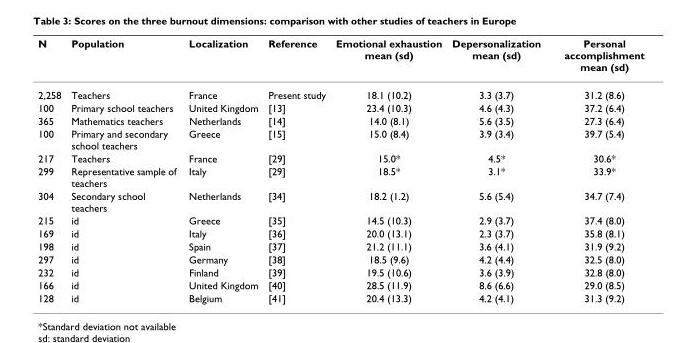table: (37, 36, 643, 303)
table column: (65, 36, 181, 303), (330, 36, 446, 303), (446, 36, 551, 303), (551, 36, 643, 303), (181, 36, 262, 303), (262, 36, 330, 303), (37, 36, 65, 303)
table column header: (37, 36, 643, 80)
table row: (37, 36, 643, 80), (37, 126, 643, 151), (37, 188, 643, 213), (37, 164, 643, 188), (37, 80, 643, 100), (37, 100, 643, 113), (37, 113, 643, 126), (37, 151, 643, 164), (37, 213, 643, 226), (37, 226, 643, 239), (37, 239, 643, 252), (37, 252, 643, 265), (37, 265, 643, 278), (37, 278, 643, 291), (37, 291, 643, 303)
